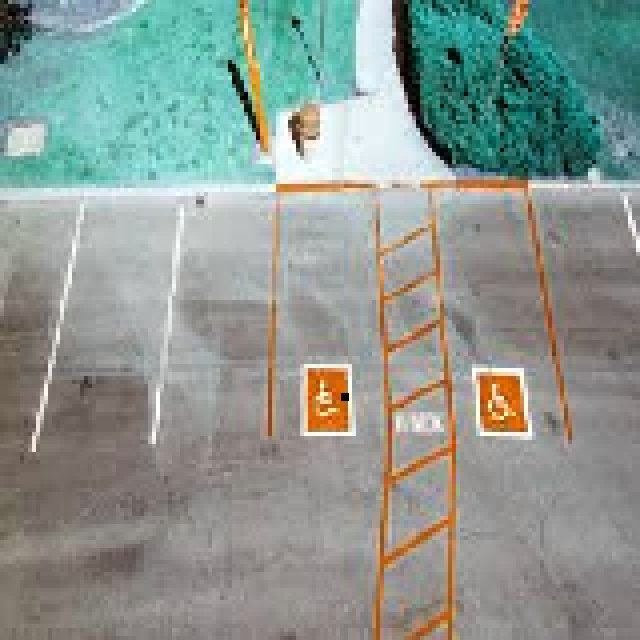ISA: (484, 380, 516, 421), (311, 375, 338, 418)
